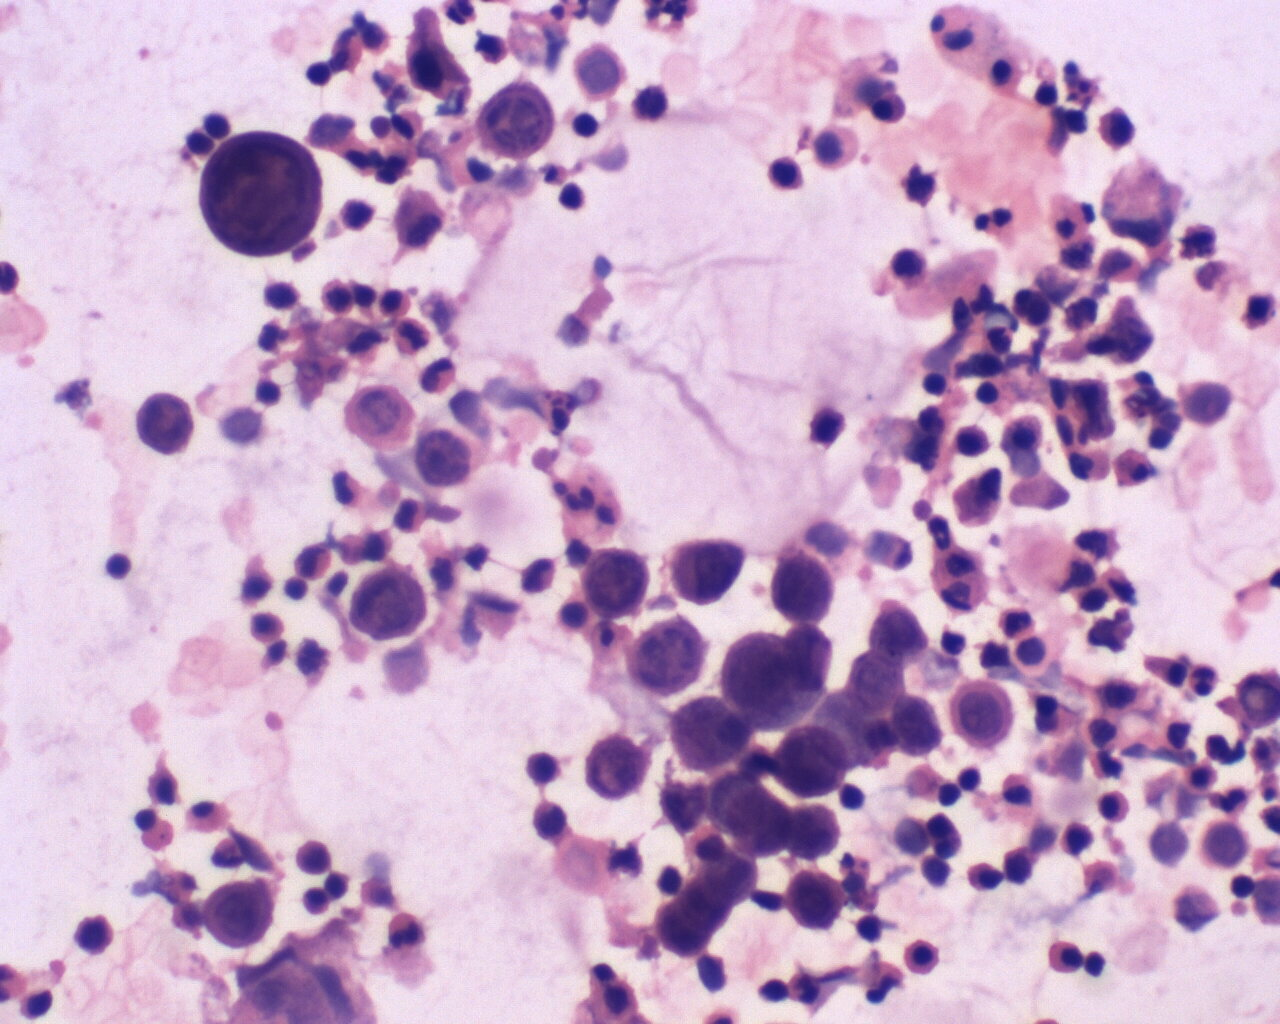ab: (195, 127, 326, 260), (718, 629, 823, 742), (624, 611, 708, 699), (945, 675, 1027, 760), (773, 726, 863, 801), (665, 533, 749, 611), (347, 569, 433, 644), (476, 79, 552, 163), (577, 549, 655, 625), (205, 879, 279, 953), (770, 553, 840, 626), (130, 392, 201, 462), (863, 594, 931, 662), (584, 731, 648, 801), (890, 693, 947, 766), (785, 869, 847, 932)
lymph: (100, 544, 140, 588), (563, 104, 604, 142), (556, 173, 591, 215), (1227, 867, 1260, 901), (850, 913, 885, 945), (957, 763, 990, 793)
meso: (812, 116, 866, 174), (586, 976, 645, 1024)
neutro: (415, 353, 461, 396), (387, 911, 429, 953), (1189, 662, 1223, 699)
